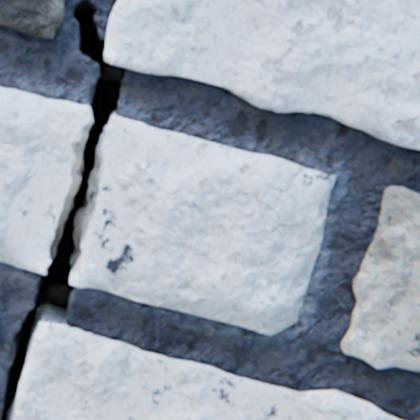brick: (104, 0, 419, 150), (12, 321, 402, 419), (340, 186, 419, 371), (0, 0, 65, 39)
broken_brick: (70, 114, 334, 334), (0, 87, 92, 273)
crack: (1, 0, 124, 419)
